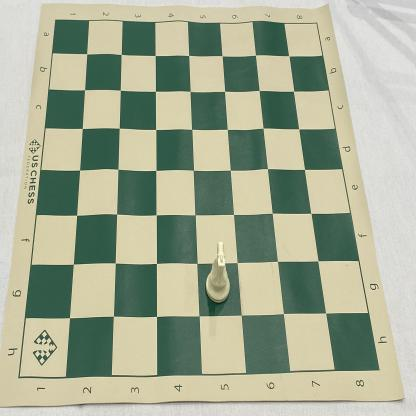knight: (205, 241, 231, 304)
